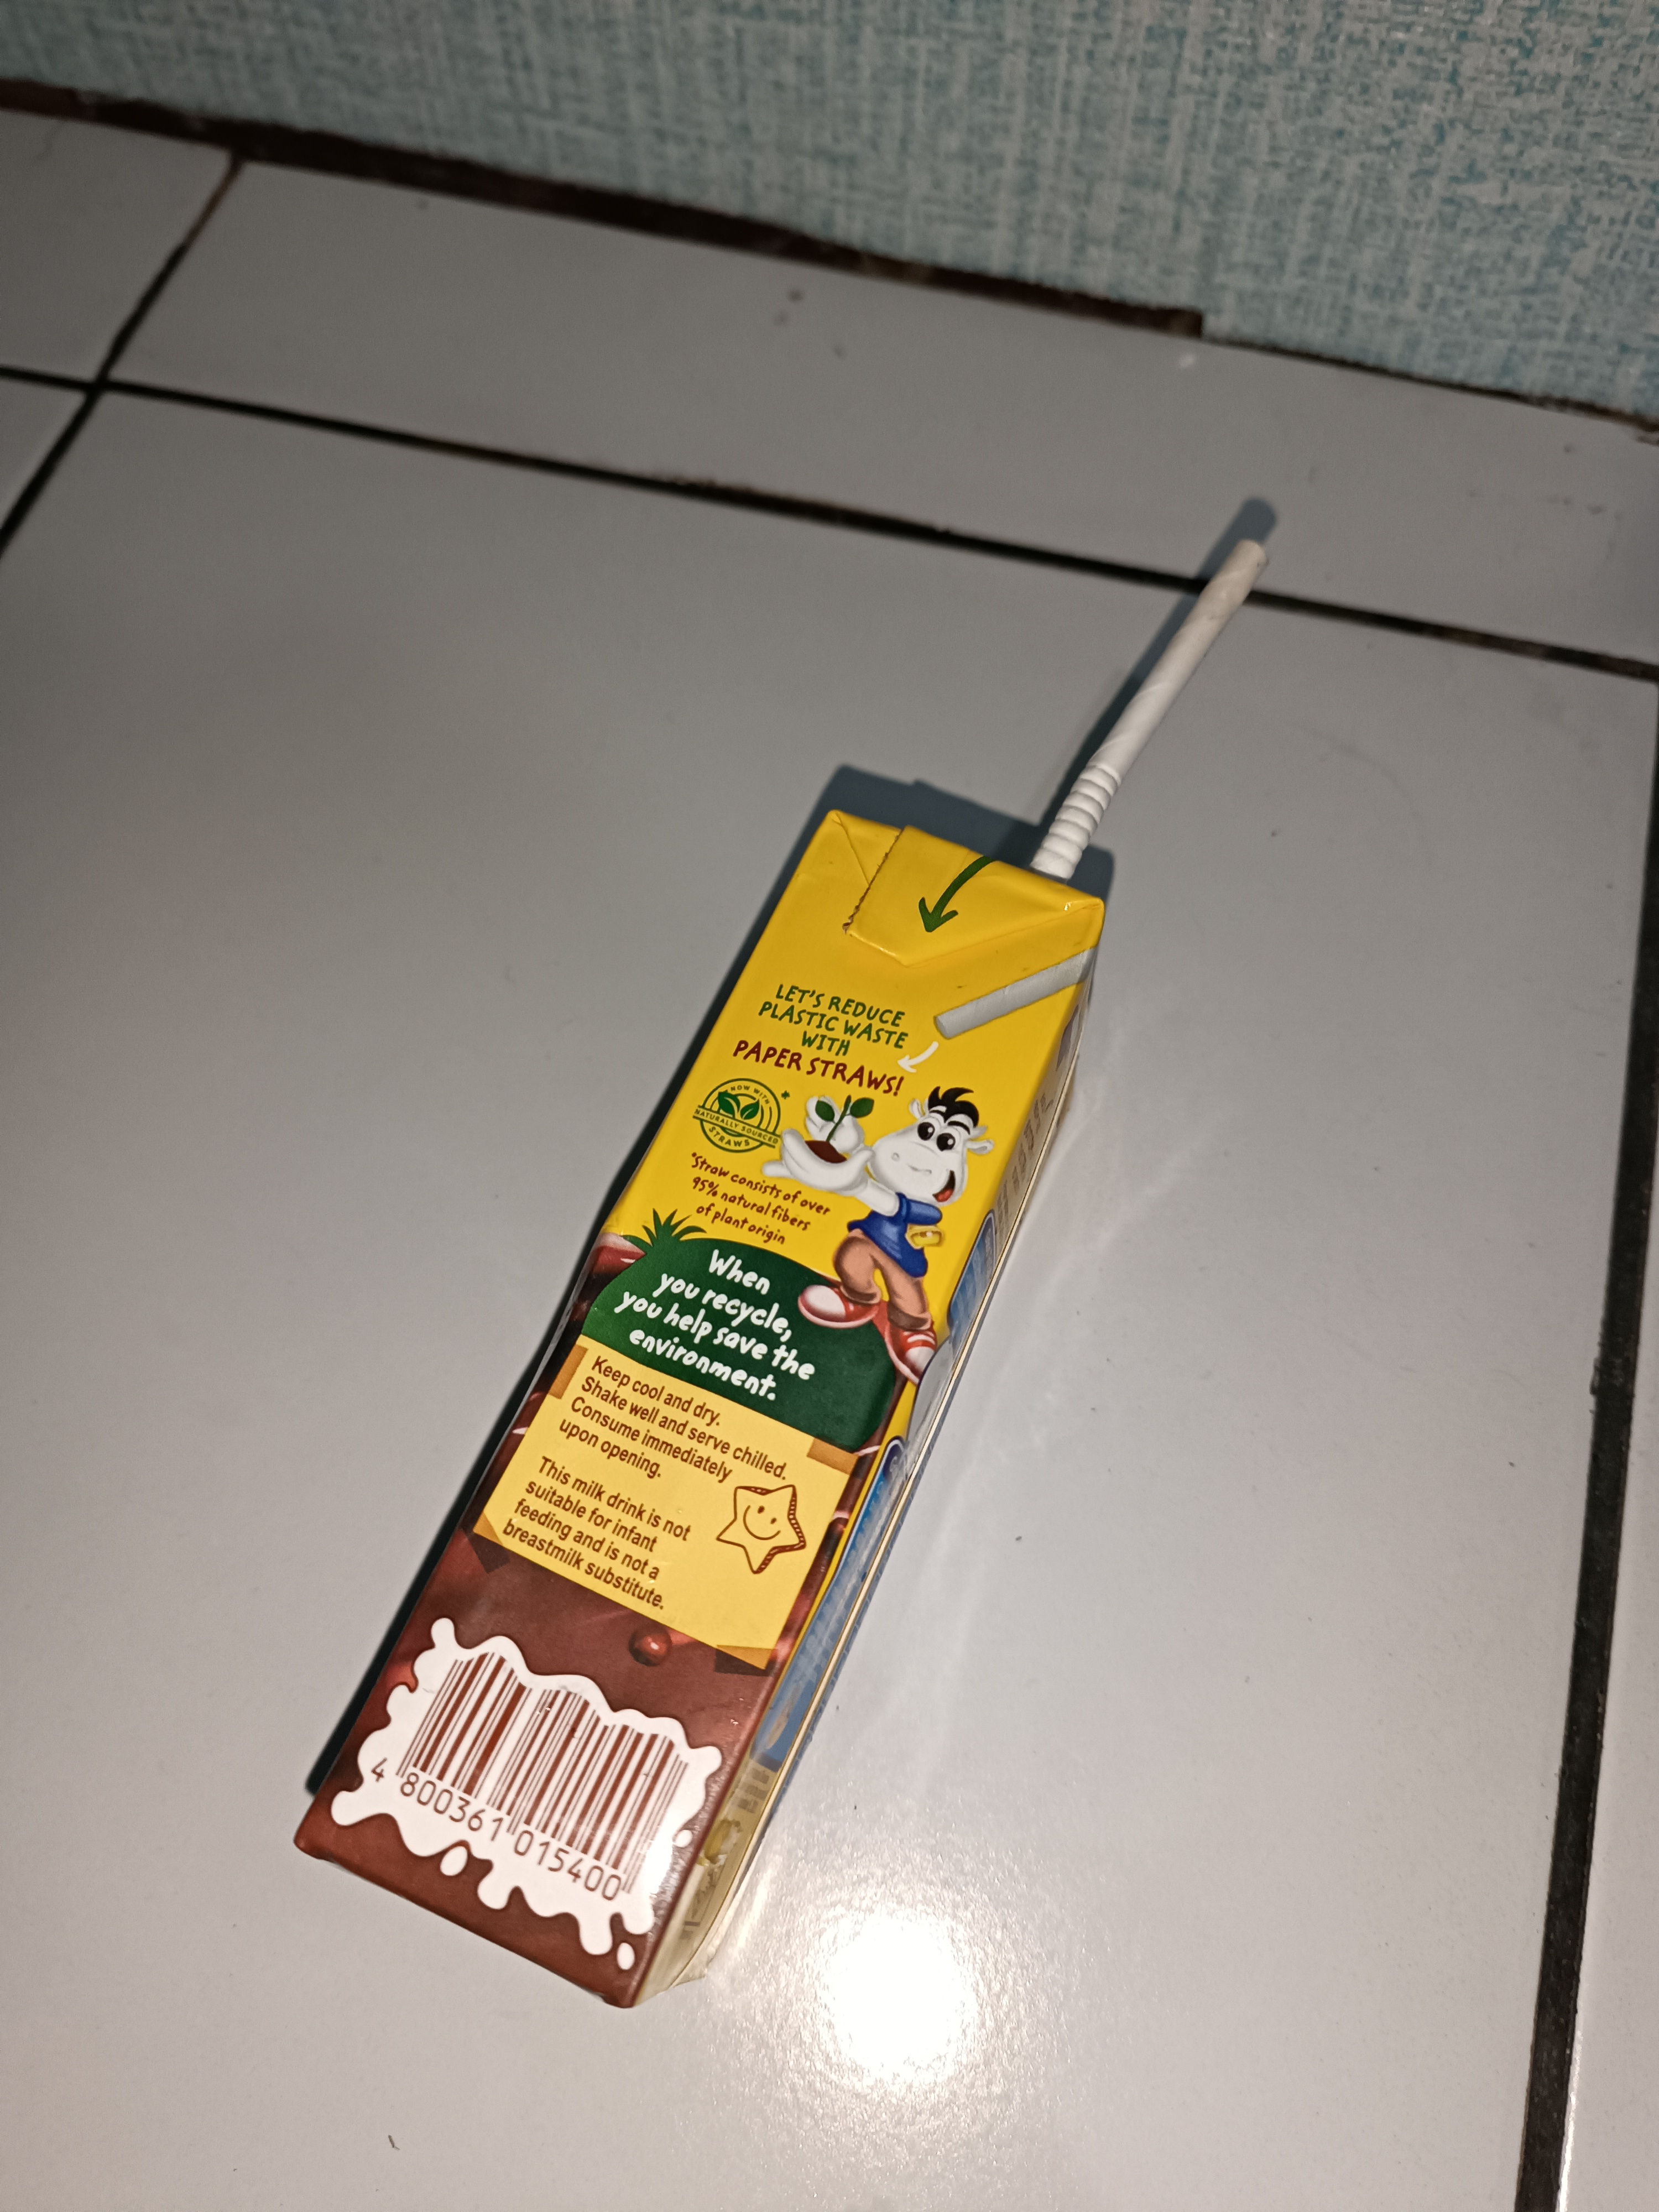Juice Box: (185, 446, 1227, 2024)
